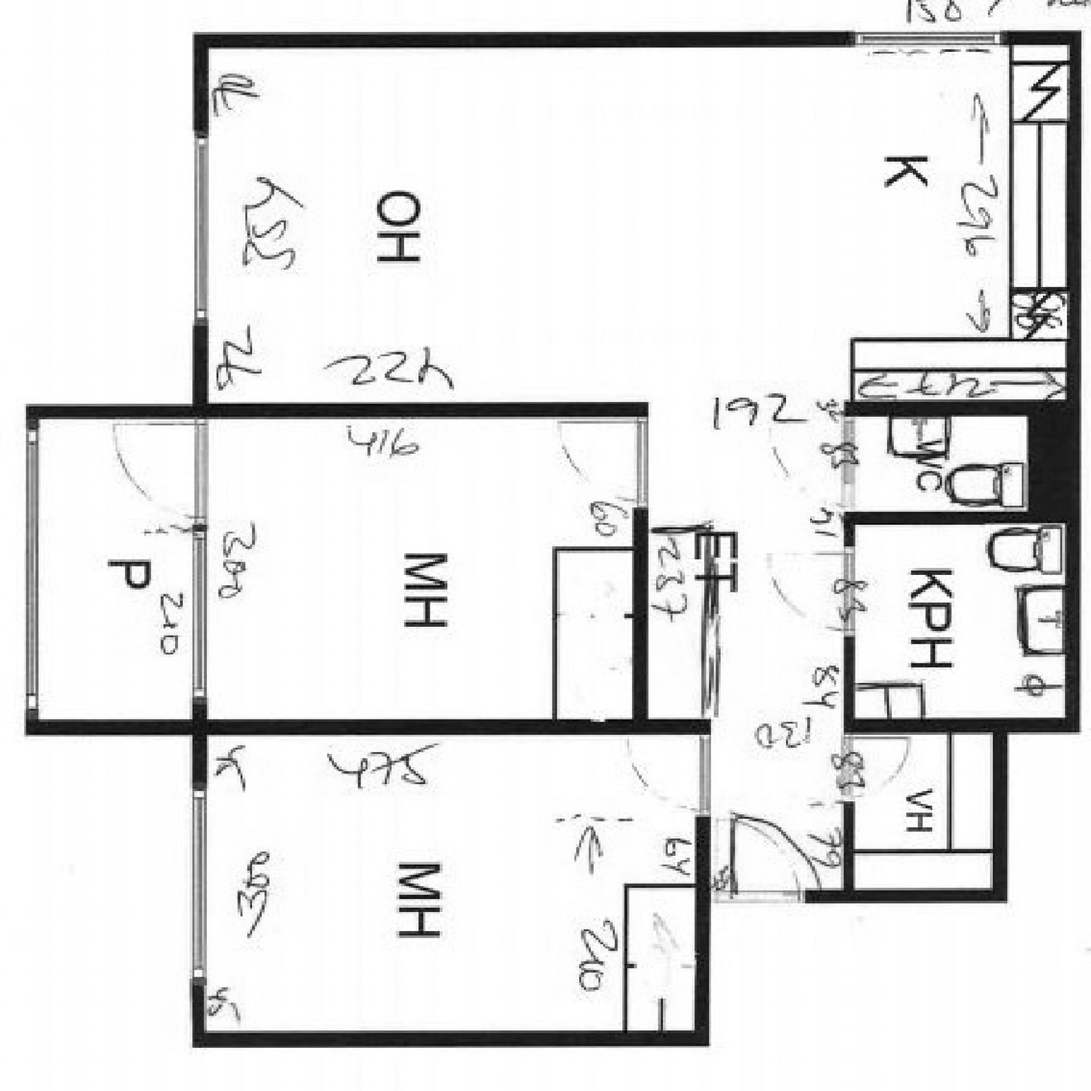wall: (192, 33, 207, 1044), (192, 33, 1083, 46), (192, 1031, 711, 1044), (1028, 402, 1082, 524), (207, 720, 711, 733), (192, 404, 648, 417), (1068, 33, 1082, 401), (635, 404, 649, 733), (697, 889, 1009, 902), (846, 511, 1083, 524), (29, 404, 38, 733), (846, 402, 1069, 415), (1069, 524, 1083, 731), (995, 718, 1009, 902), (697, 720, 711, 902), (29, 720, 207, 733), (696, 888, 710, 1043), (29, 404, 192, 417), (846, 511, 856, 718), (846, 718, 995, 731), (846, 718, 856, 902), (846, 402, 860, 524), (995, 718, 1083, 731)
